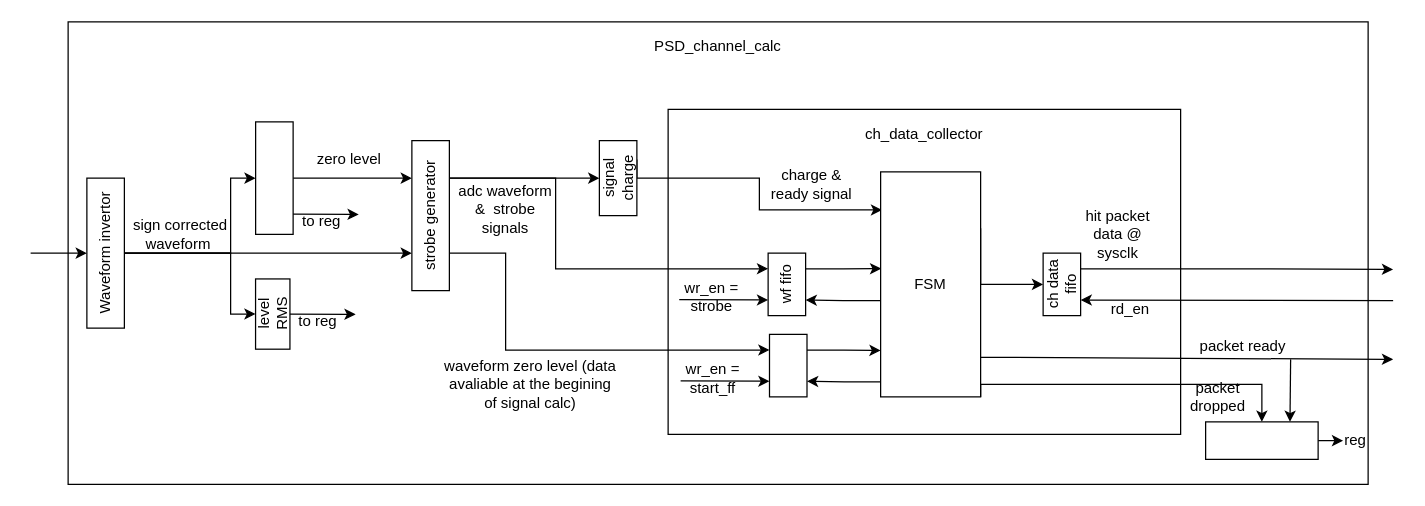
Image size: 1425x506. Some labels were removed from this diagram. The centre of each missing label's shape, as x and y in pixels:
header fifo: point 787,365
readout rate calculation: point 1261,440
waveworm mean: point 273,177
